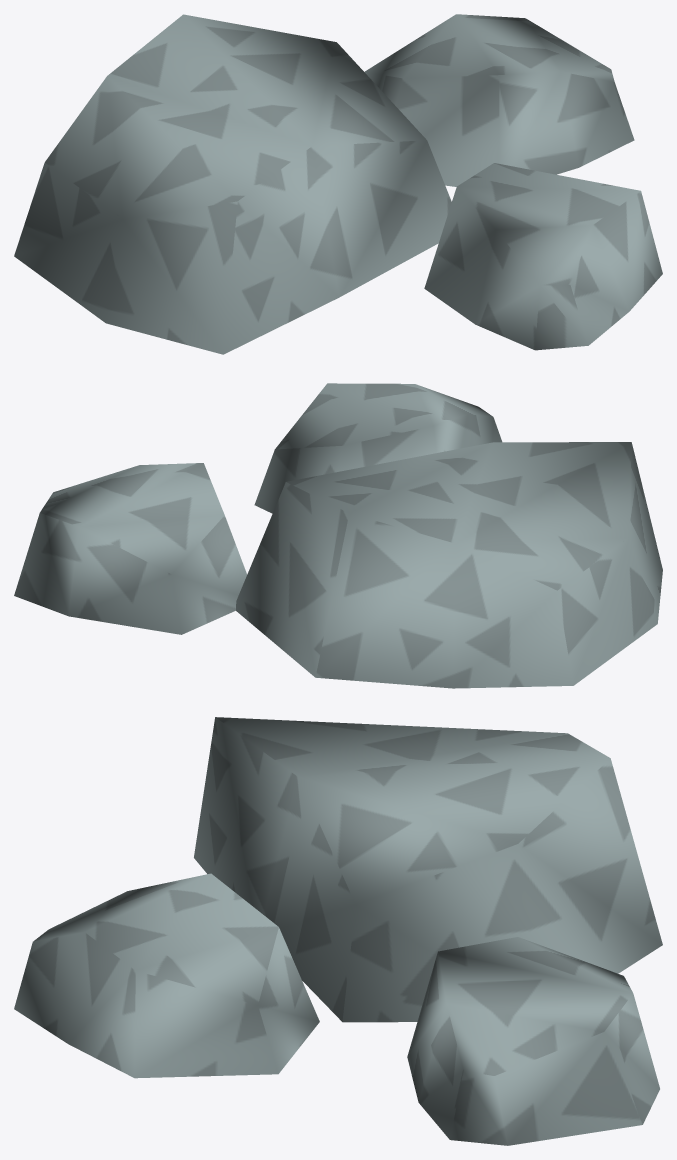
The model's file is rocks_a.glb.
3 renders of one model, top to bottom at view 1: azimuth 30°, elevation 25°; view 2: azimuth 150°, elevation 25°; view 3: azimuth 270°, elevation 25°, orthographic. The views are drawn at different scales.
Visible parts, largest first — view 1: rocks_a; view 2: rocks_a; view 3: rocks_a.
Boxes of the visible parts, x1,y1,x2,y2 form: rocks_a: [14, 14, 662, 354]; rocks_a: [14, 383, 662, 688]; rocks_a: [14, 717, 662, 1145].
Size of the model in its own units: 0.8563 by 0.2259 by 0.7385.
1 material, 1 textured.
